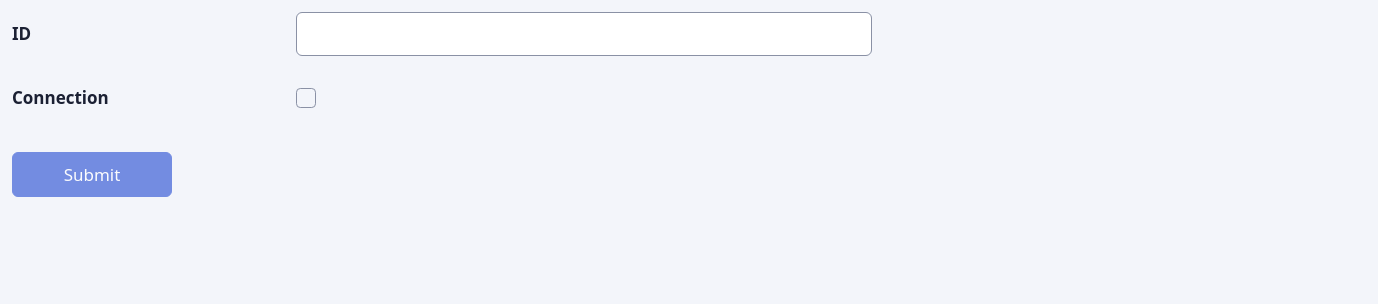
Scenario: posts the form, reports success and shows the returned data
Type "101" into the field labelled "ID" at (584, 34), box [296,12,872,56]
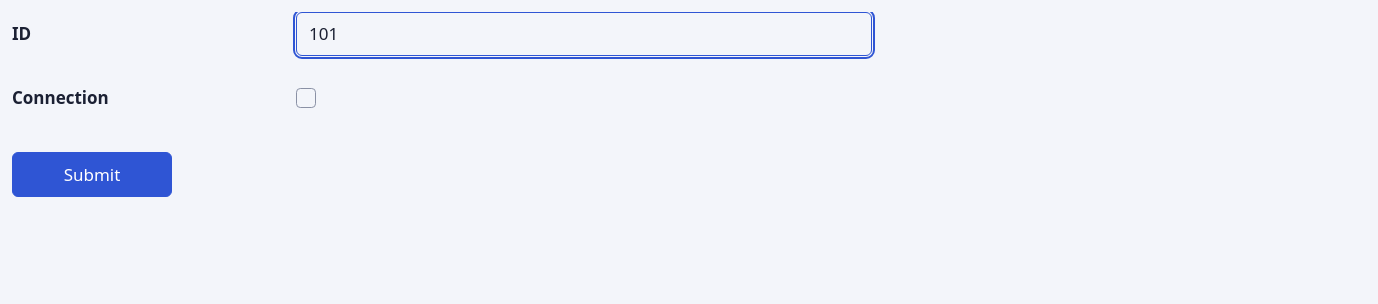
Click the checkbox at (306, 98), box [296,88,316,108]
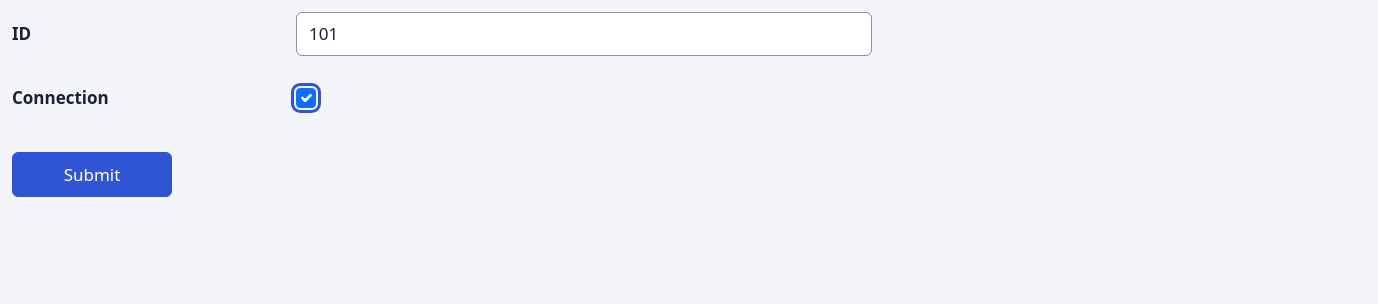
Click the button "Submit" at (92, 174), box [12,152,172,196]
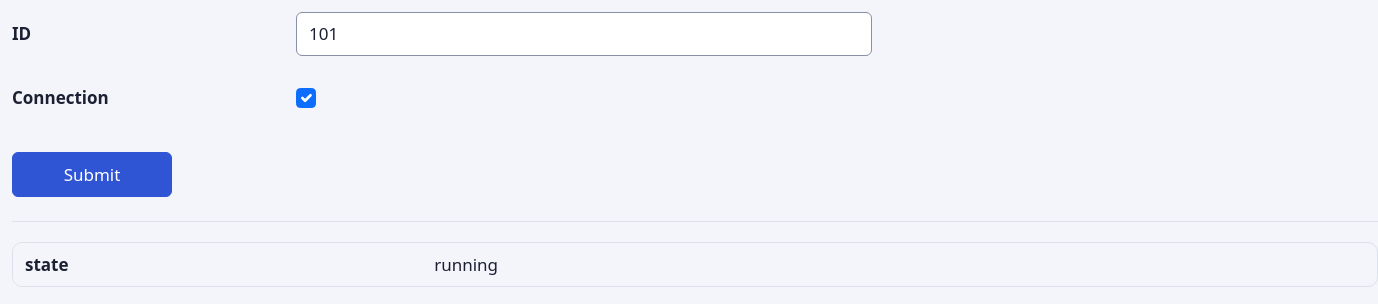
Expected: the text "running" is shown, [434,252,498,276]
